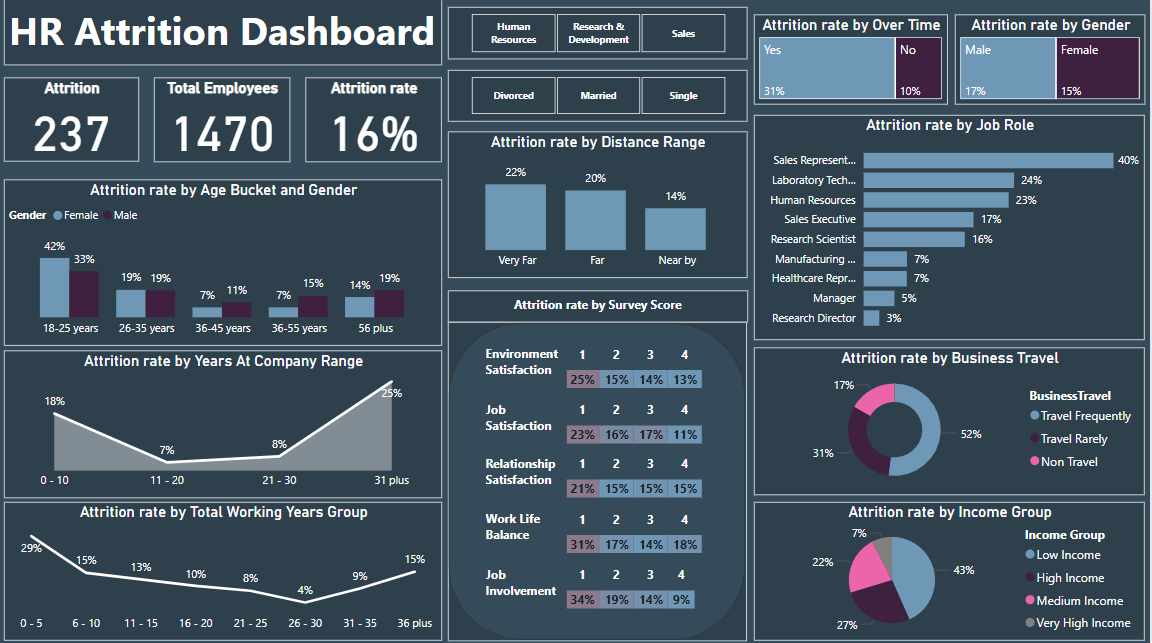

This screenshot's page, from the dashboard's own definition file:
{"tool":"powerbi","page":{"name":"Page 1","canvas":[1280,720],"ordinal":0},"visuals":[{"type":"clusteredColumnChart","fields":{"Y":["# Measures.Attrition rate"],"Category":["Employee_data.Age Bucket"],"Series":["Employee_data.Gender"]},"box":[6.4,201.2,486.7,184.5],"z":0},{"type":"pivotTable","fields":{"Values":["# Measures.Attrition rate"],"Columns":["Employee_data.EnvironmentSatisfaction"]},"box":[609.5,378.9,186.4,60.6],"z":0,"group":"g10"},{"type":"group","id":"g1","title":"Group 1","box":[536.7,440,259.3,61.1],"z":0,"group":"g15"},{"type":"pivotTable","fields":{"Values":["# Measures.Attrition rate"],"Columns":["Employee_data.JobSatisfaction"]},"box":[609.5,440,186.4,60.6],"z":0,"group":"g11"},{"type":"pivotTable","fields":{"Values":["# Measures.Attrition rate"],"Columns":["Employee_data.RelationshipSatisfaction"]},"box":[609.5,501,186.4,60.6],"z":0,"group":"g12"},{"type":"pivotTable","fields":{"Values":["# Measures.Attrition rate"],"Columns":["Employee_data.WorkLifeBalance"]},"box":[609.5,562.1,186.4,60.6],"z":0,"group":"g13"},{"type":"pivotTable","fields":{"Values":["# Measures.Attrition rate"],"Columns":["Employee_data.JobInvolvement"]},"box":[609.5,623.2,186.4,60.6],"z":0,"group":"g14"},{"type":"shape","box":[499.5,359.5,332.4,354.7],"z":500,"group":"g9"},{"type":"group","id":"g2","title":"Group 1","box":[536.7,378.9,259.3,61.1],"z":1000,"group":"g15"},{"type":"textbox","box":[536.7,379.4,95.5,60.6],"z":1000,"group":"g10"},{"type":"donutChart","title":"Attrition rate by Business Travel","fields":{"Category":["Employee_data.BusinessTravel"],"Y":["# Measures.Attrition rate"]},"box":[840.4,388.1,434.2,163.8],"z":1000},{"type":"textbox","box":[536.7,440.5,95.5,60.6],"z":1000,"group":"g11"},{"type":"textbox","box":[536.7,501.5,95.5,60.6],"z":1000,"group":"g12"},{"type":"textbox","box":[536.7,562.6,95.5,60.6],"z":1000,"group":"g13"},{"type":"textbox","box":[536.7,623.7,95.5,60.6],"z":1000,"group":"g14"},{"type":"treemap","title":"Attrition rate by Over Time","fields":{"Group":["Employee_data.OverTime"],"Values":["# Measures.Attrition rate"]},"box":[839.8,19.1,215,100],"z":2000},{"type":"group","id":"g3","title":"Group 1","box":[536.7,501,259.3,61.1],"z":2000,"group":"g15"},{"type":"pieChart","fields":{"Category":["Employee_data.IncomeCategory "],"Y":["# Measures.Attrition rate"]},"box":[840.4,559.9,434.2,154.3],"z":3000},{"type":"group","id":"g4","title":"Group 1","box":[536.7,562.1,259.3,61.1],"z":3000,"group":"g15"},{"type":"areaChart","title":"Attrition rate by Years At Company Range","fields":{"Category":["Employee_data.YearsAtCompanyRange"],"Y":["# Measures.Attrition rate"]},"box":[6.4,390.9,486.7,163.8],"z":4000},{"type":"group","id":"g5","title":"Group 1","box":[536.7,623.2,259.3,61.1],"z":4000,"group":"g15"},{"type":"textbox","box":[6.4,0,486.7,74.8],"z":5000},{"type":"card","title":"Attrition rate","fields":{"Values":["# Measures.Attrition rate"]},"box":[341.7,89.1,151.4,93.8],"z":6000,"group":"g6"},{"type":"lineChart","fields":{"Y":["# Measures.Attrition rate"],"Category":["Employee_data.Total Working Years Group"]},"box":[6.4,559.9,486.7,154.3],"z":6000},{"type":"card","title":"Total Employees ","fields":{"Values":["# Measures.Total Employees"]},"box":[173.3,89.1,151.4,93.8],"z":7000,"group":"g6"},{"type":"clusteredBarChart","title":"Attrition rate by Job Role","fields":{"Category":["Employee_data.JobRole"],"Y":["# Measures.Attrition rate"]},"box":[840.4,130.4,434.2,249.7],"z":7000},{"type":"slicer","fields":{"Values":["Employee_data.MaritalStatus"]},"box":[499.7,79.7,332.4,57.3],"z":8000},{"type":"group","id":"g6","title":"Group 6","box":[6.4,89.1,486.7,93.8],"z":9000},{"type":"card","title":"Attrition","fields":{"Values":["# Measures.Attrition"]},"box":[6.4,89.4,149.9,93.2],"z":9000,"group":"g6"},{"type":"slicer","fields":{"Values":["Employee_data.Department"]},"box":[499.7,9.5,332.4,58],"z":10000},{"type":"treemap","fields":{"Group":["Employee_data.Gender"],"Values":["# Measures.Attrition rate"]},"box":[1062.5,19.1,211.6,100.2],"z":11000},{"type":"columnChart","fields":{"Y":["# Measures.Attrition rate"],"Category":["Employee_data.Distance Range"]},"box":[499.7,149.2,332.4,163],"z":12000},{"type":"group","id":"g7","title":"Group 5","box":[499.5,359.5,332.4,354.7],"z":12001,"group":"g8"},{"type":"textbox","box":[499.5,324.5,334,35],"z":12002,"group":"g8"},{"type":"group","id":"g8","title":"Group 7","box":[499.5,324.5,334,389.7],"z":12003},{"type":"group","id":"g9","title":"Group 3","box":[499.5,359.5,331.9,354.6],"z":15501,"group":"g7"},{"type":"group","id":"g10","title":"Group 4","box":[536.7,378.9,259.3,61.1],"z":15503,"group":"g2"},{"type":"group","id":"g11","title":"Group 4","box":[536.7,440,259.3,61.1],"z":15503,"group":"g1"},{"type":"group","id":"g12","title":"Group 4","box":[536.7,501,259.3,61.1],"z":15503,"group":"g3"},{"type":"group","id":"g13","title":"Group 4","box":[536.7,562.1,259.3,61.1],"z":15503,"group":"g4"},{"type":"group","id":"g14","title":"Group 4","box":[536.7,623.2,259.3,61.1],"z":15503,"group":"g5"},{"type":"group","id":"g15","title":"Group 2","box":[536.7,378.9,259.1,312.5],"z":15506,"group":"g7"}]}

Visuals, with their boxes in screenshot pixels (x1, y1, x2, y2), scaled from the page's 1280x720 canvas onto the 1152x643 screenshot:
clusteredColumnChart - # Measures.Attrition rate x Employee_data.Age Bucket: box(6, 180, 444, 344)
pivotTable - # Measures.Attrition rate x Employee_data.EnvironmentSatisfaction: box(549, 338, 716, 392)
"Group 1" group: box(483, 393, 716, 448)
pivotTable - # Measures.Attrition rate x Employee_data.JobSatisfaction: box(549, 393, 716, 447)
pivotTable - # Measures.Attrition rate x Employee_data.RelationshipSatisfaction: box(549, 447, 716, 502)
pivotTable - # Measures.Attrition rate x Employee_data.WorkLifeBalance: box(549, 502, 716, 556)
pivotTable - # Measures.Attrition rate x Employee_data.JobInvolvement: box(549, 557, 716, 611)
shape: box(450, 321, 749, 638)
"Group 1" group: box(483, 338, 716, 393)
textbox: box(483, 339, 569, 393)
"Attrition rate by Business Travel" donutChart: box(756, 347, 1147, 493)
textbox: box(483, 393, 569, 448)
textbox: box(483, 448, 569, 502)
textbox: box(483, 502, 569, 557)
textbox: box(483, 557, 569, 611)
"Attrition rate by Over Time" treemap: box(756, 17, 949, 106)
"Group 1" group: box(483, 447, 716, 502)
pieChart - Employee_data.IncomeCategory  x # Measures.Attrition rate: box(756, 500, 1147, 638)
"Group 1" group: box(483, 502, 716, 557)
"Attrition rate by Years At Company Range" areaChart: box(6, 349, 444, 495)
"Group 1" group: box(483, 557, 716, 611)
textbox: box(6, 0, 444, 67)
"Attrition rate" card: box(308, 80, 444, 163)
lineChart - # Measures.Attrition rate x Employee_data.Total Working Years Group: box(6, 500, 444, 638)
"Total Employees " card: box(156, 80, 292, 163)
"Attrition rate by Job Role" clusteredBarChart: box(756, 116, 1147, 339)
slicer - Employee_data.MaritalStatus: box(450, 71, 749, 122)
"Group 6" group: box(6, 80, 444, 163)
"Attrition" card: box(6, 80, 141, 163)
slicer - Employee_data.Department: box(450, 8, 749, 60)
treemap - Employee_data.Gender x # Measures.Attrition rate: box(956, 17, 1147, 107)
columnChart - # Measures.Attrition rate x Employee_data.Distance Range: box(450, 133, 749, 279)
"Group 5" group: box(450, 321, 749, 638)
textbox: box(450, 290, 750, 321)
"Group 7" group: box(450, 290, 750, 638)
"Group 3" group: box(450, 321, 748, 638)
"Group 4" group: box(483, 338, 716, 393)
"Group 4" group: box(483, 393, 716, 448)
"Group 4" group: box(483, 447, 716, 502)
"Group 4" group: box(483, 502, 716, 557)
"Group 4" group: box(483, 557, 716, 611)
"Group 2" group: box(483, 338, 716, 617)
